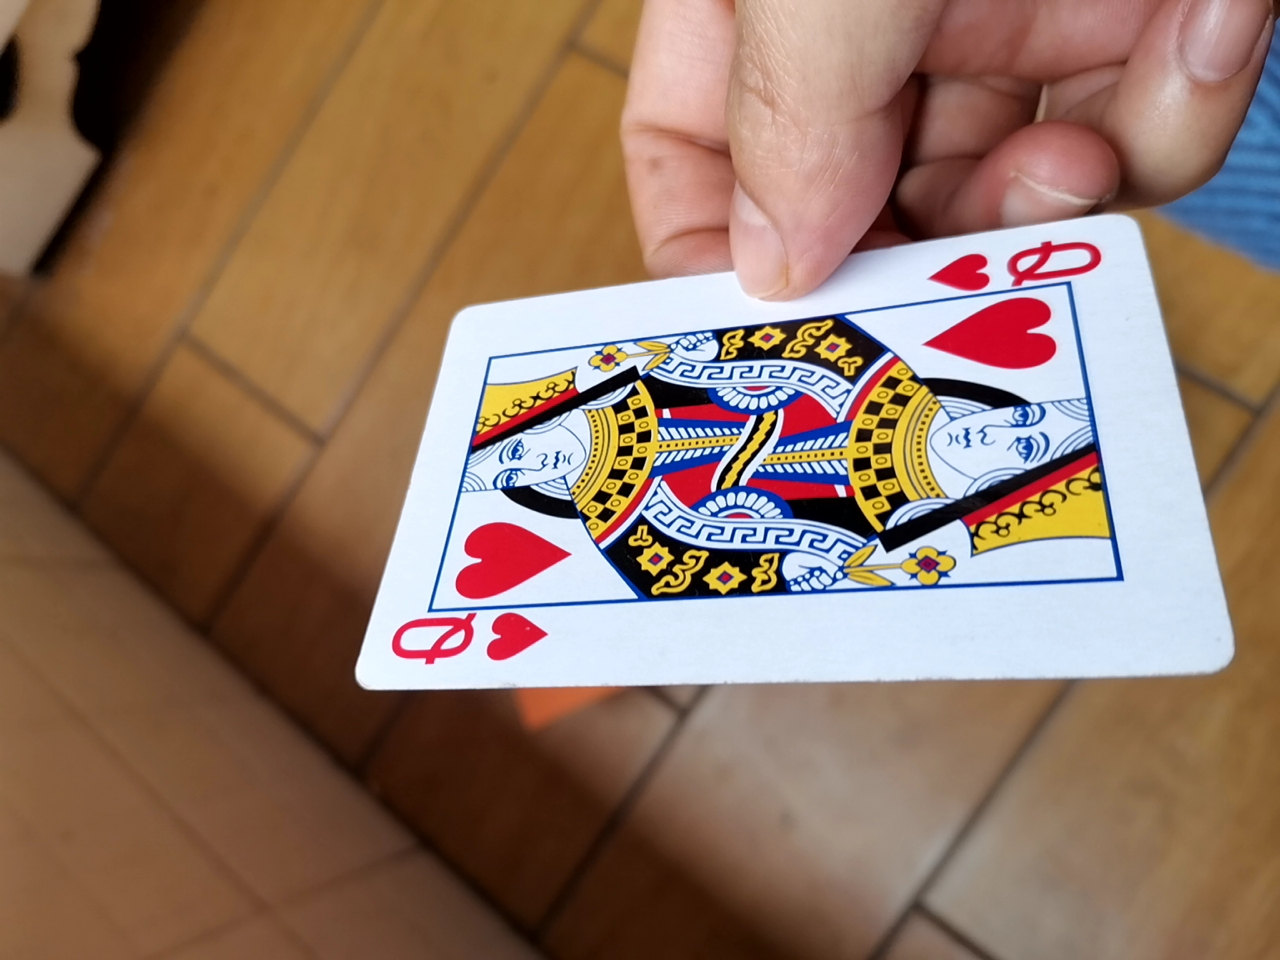hx q: (335, 231, 1218, 705)
